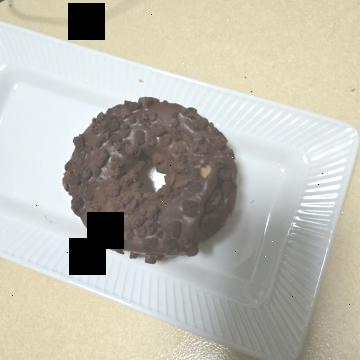doughnut: (83, 114, 271, 302)
